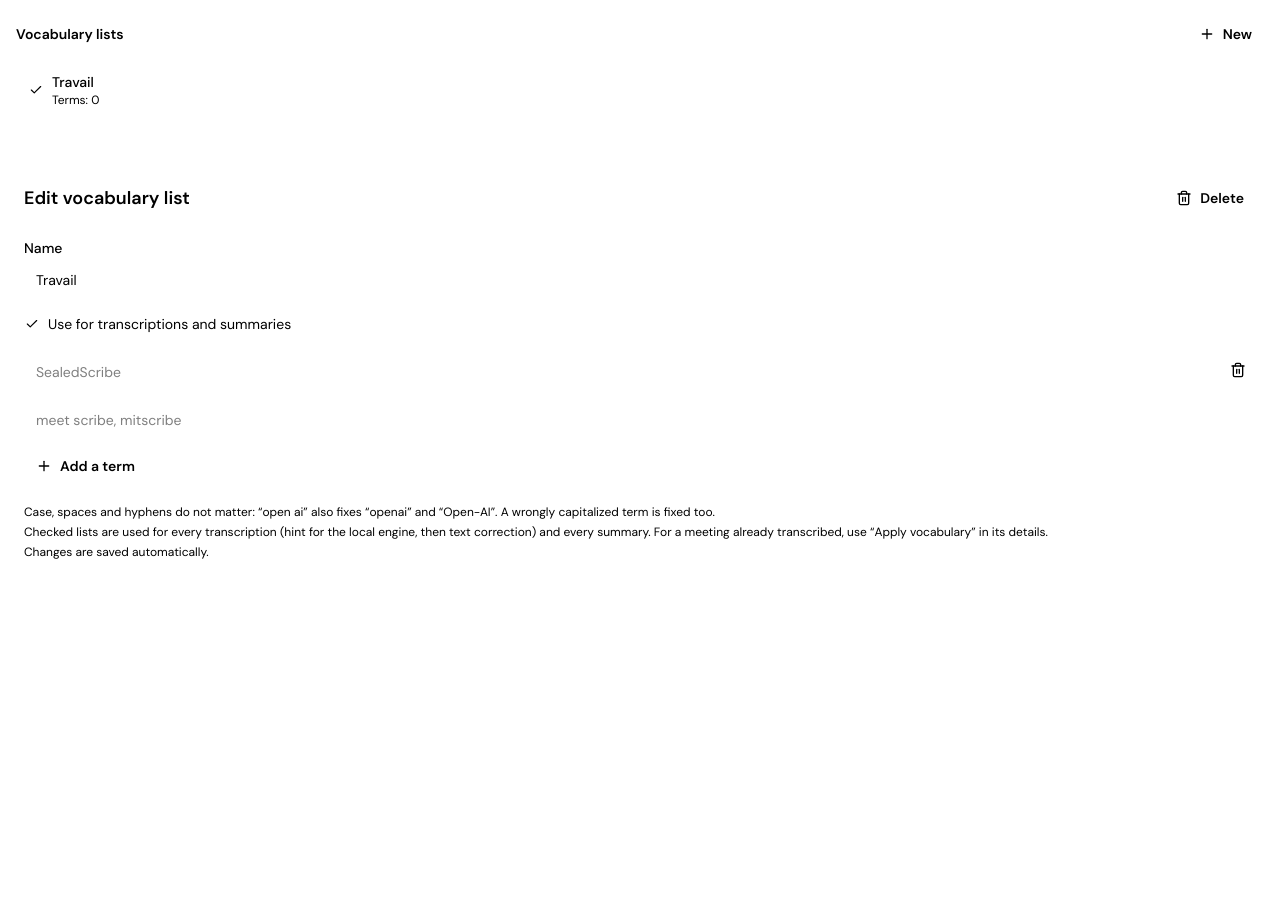
Test case: LexiconsTab › supprime un lexique après confirmation
The image size is (1280, 900).
Click the button "Delete": (1210, 198) [1164,180,1256,216]
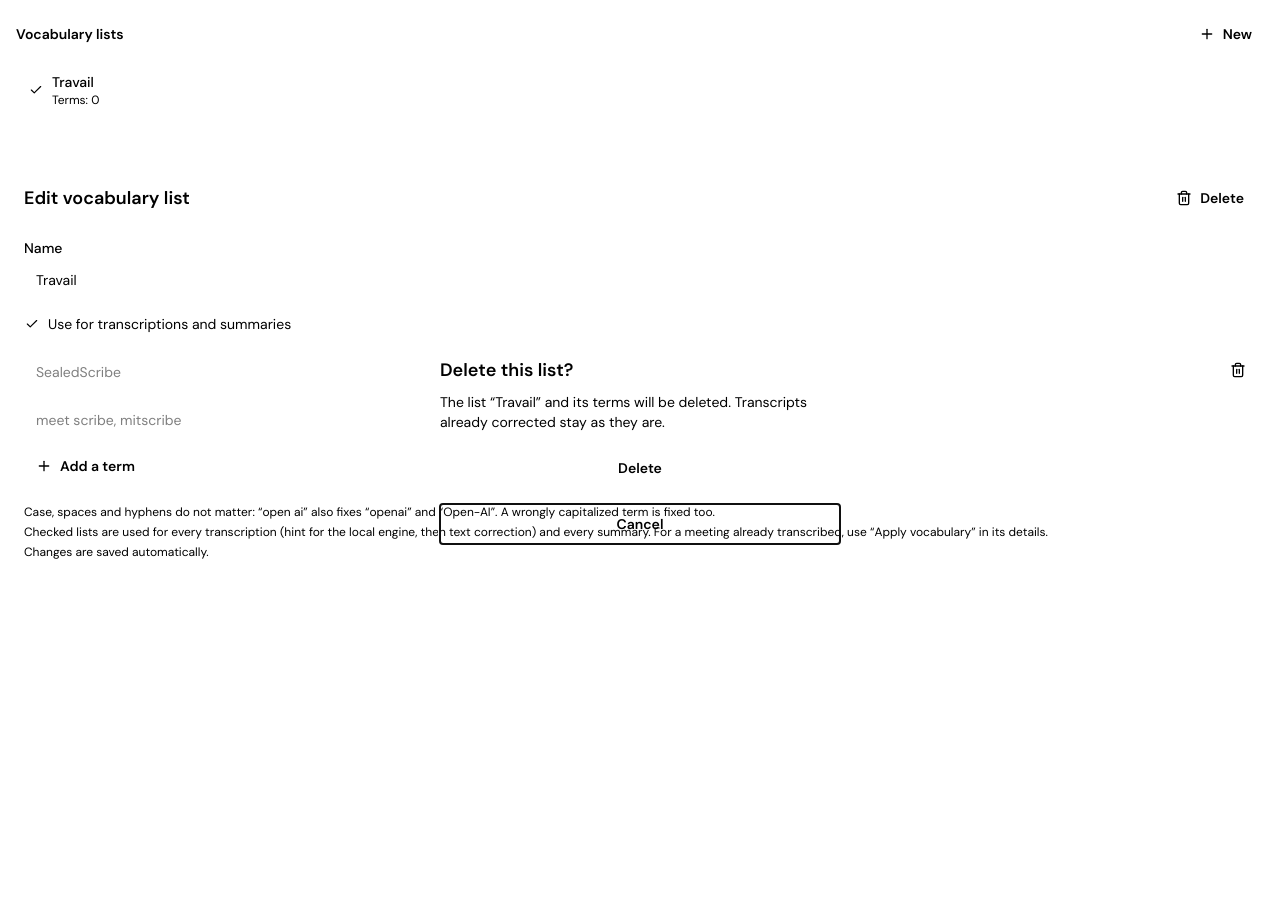
Now the dialog shows "The list “Travail” and its terms will be deleted.", box [440,393,807,431]
Click the button "Delete": (640, 468) [440,448,840,488]
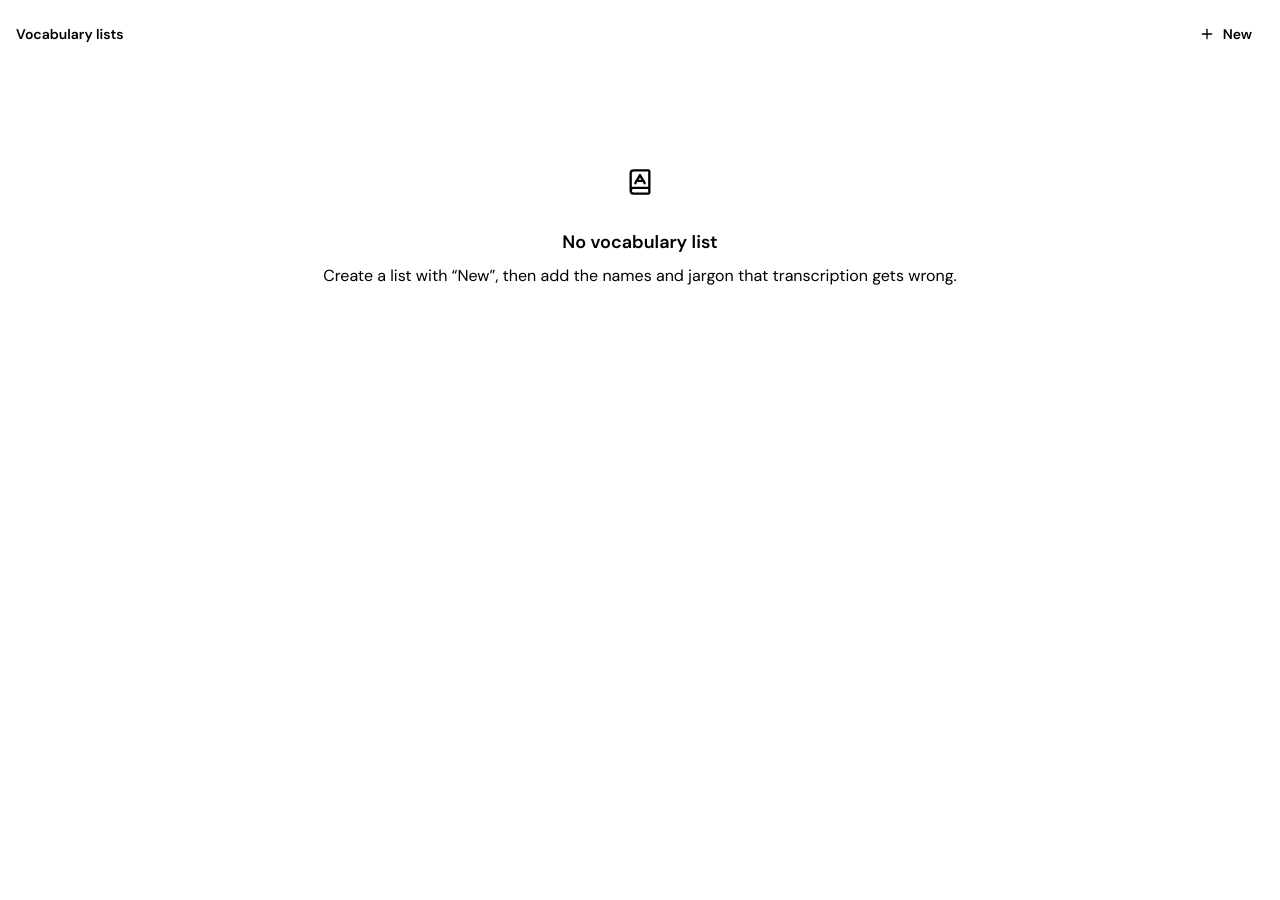
Now the heading "No vocabulary list" is shown, box [562,230,718,254]
